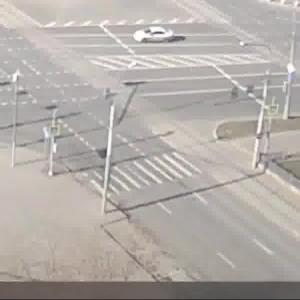car: (134, 26, 176, 47)
